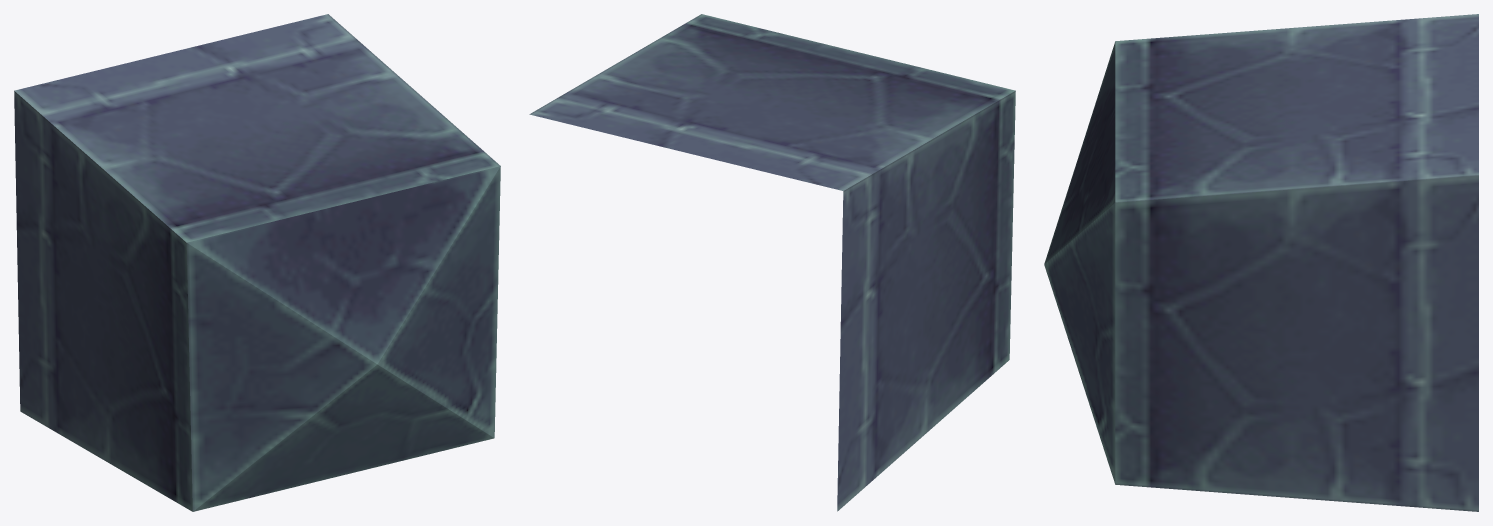
3 views of the same model, side by side, from view 1: azimuth 30°, elevation 25°; view 2: azimuth 150°, elevation 25°; view 3: azimuth 270°, elevation 25° (orthographic). The views are drawn at different scales.
Parts seen in each view (by area): view 1: A:\.Yandex.YandexDisk.SK SHARED FILES.Game models.1 Exported; view 2: A:\.Yandex.YandexDisk.SK SHARED FILES.Game models.1 Exported; view 3: A:\.Yandex.YandexDisk.SK SHARED FILES.Game models.1 Exported.
Part boxes in pixels (<box>): A:\.Yandex.YandexDisk.SK SHARED FILES.Game models.1 Exported: <box>14,14,500,511</box>; A:\.Yandex.YandexDisk.SK SHARED FILES.Game models.1 Exported: <box>529,14,1015,511</box>; A:\.Yandex.YandexDisk.SK SHARED FILES.Game models.1 Exported: <box>1044,14,1478,511</box>.
Size of the model in its own units: 1.02 by 1 by 1.16.
Materials: 1 (1 with a texture image).
